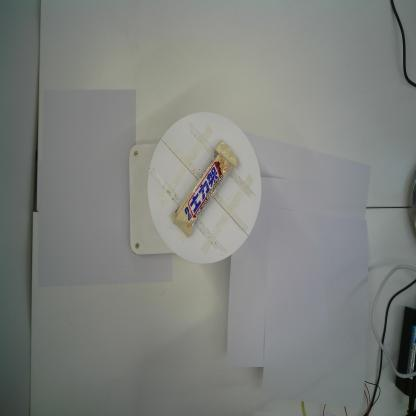Chocolate: (169, 136, 240, 240)
